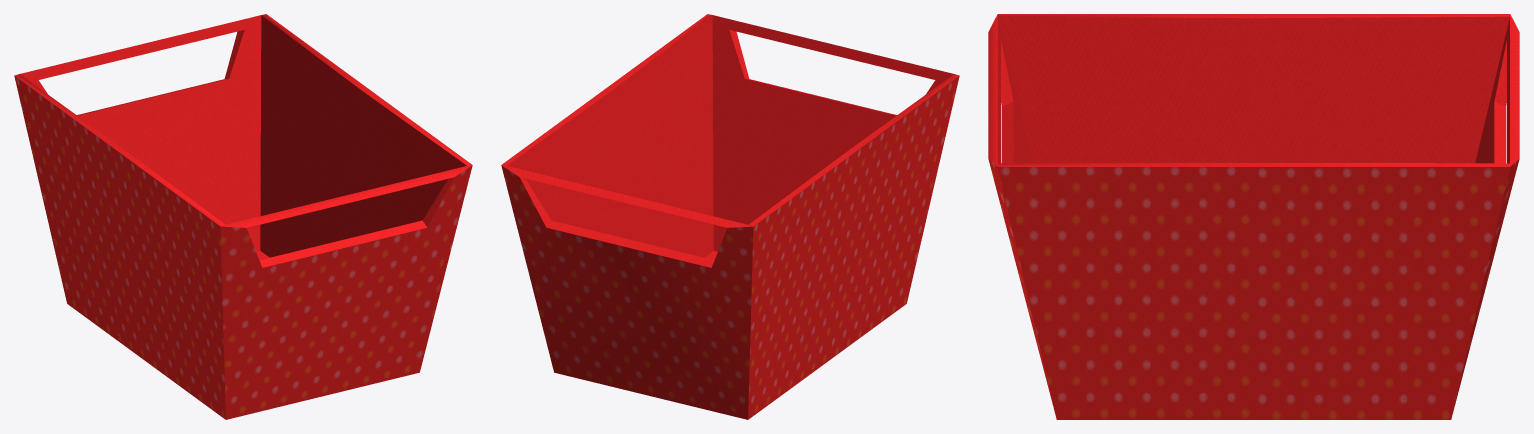
Rendered from Storage_Bin_G.FBX.
The picture shows the model from 3 angles, left to right: view 1: azimuth 30°, elevation 25°; view 2: azimuth 150°, elevation 25°; view 3: azimuth 270°, elevation 25°; orthographic projection. The views are drawn at different scales.
Parts seen in each view (by area): view 1: Storage_Bin; view 2: Storage_Bin; view 3: Storage_Bin.
Part boxes in pixels (x1,y1,x2,y2): Storage_Bin: [14, 14, 472, 419]; Storage_Bin: [501, 14, 959, 419]; Storage_Bin: [988, 14, 1519, 419].
Size of the model in its own units: 84.75 by 70.11 by 125.
